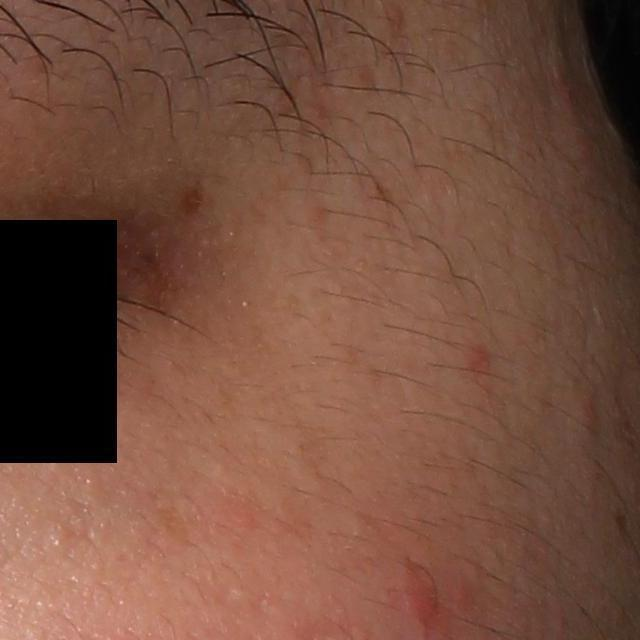papule: (398, 572, 442, 629)
